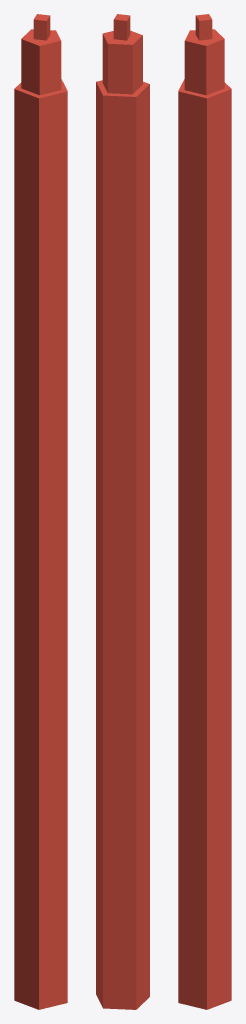
The model's file is SM_Tripod_Universal_Arm_C.fbx.
3 views of the same model, side by side, from view 1: azimuth 30°, elevation 25°; view 2: azimuth 210°, elevation 25°; view 3: azimuth 330°, elevation 25° (orthographic).
Visible parts, largest first — view 1: SM_Tripod_Universal_Arm_C; view 2: SM_Tripod_Universal_Arm_C; view 3: SM_Tripod_Universal_Arm_C.
Part boxes in pixels (bbox=[...]): SM_Tripod_Universal_Arm_C: bbox=[14, 14, 67, 1009]; SM_Tripod_Universal_Arm_C: bbox=[96, 14, 149, 1009]; SM_Tripod_Universal_Arm_C: bbox=[178, 14, 231, 1009].
Bounding box in the file's own units: 2.46 × 2.59 × 51.96.
